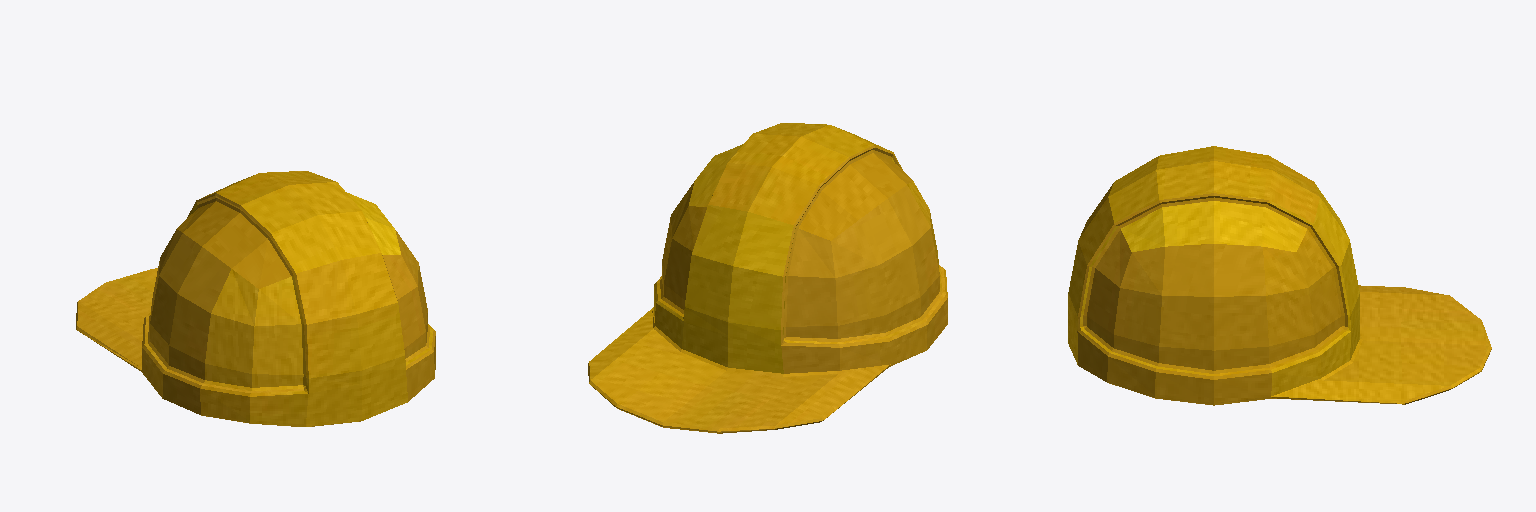
3 renders of one model, left to right at view 1: azimuth 30°, elevation 25°; view 2: azimuth 150°, elevation 25°; view 3: azimuth 270°, elevation 25°, orthographic.
Parts seen in each view (by area): view 1: Cube; view 2: Cube; view 3: Cube.
Part boxes in pixels (left/top/right/bottom): Cube: left=76, top=171, right=435, bottom=426; Cube: left=588, top=123, right=947, bottom=433; Cube: left=1068, top=146, right=1491, bottom=405.
Bounding box in the file's own units: 1.77 × 1.28 × 2.57.
1 materials, 1 textured.